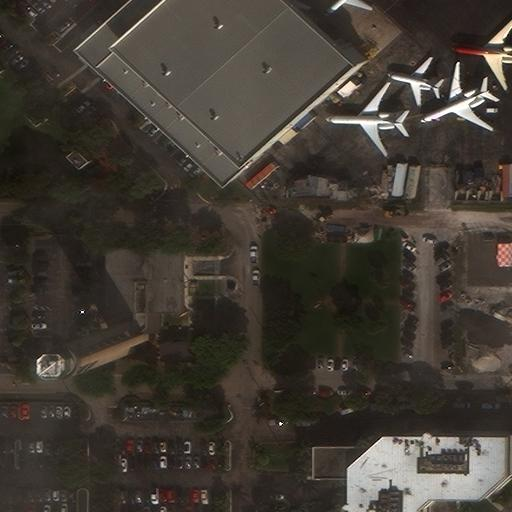Medium Civil Transport: (324, 82, 402, 157), (420, 62, 491, 131), (450, 18, 511, 90), (387, 57, 440, 106), (323, 0, 371, 16)
